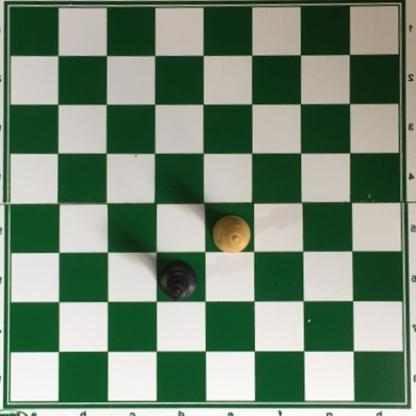black-queen: (158, 257, 198, 303)
white-queen: (211, 216, 250, 255)
